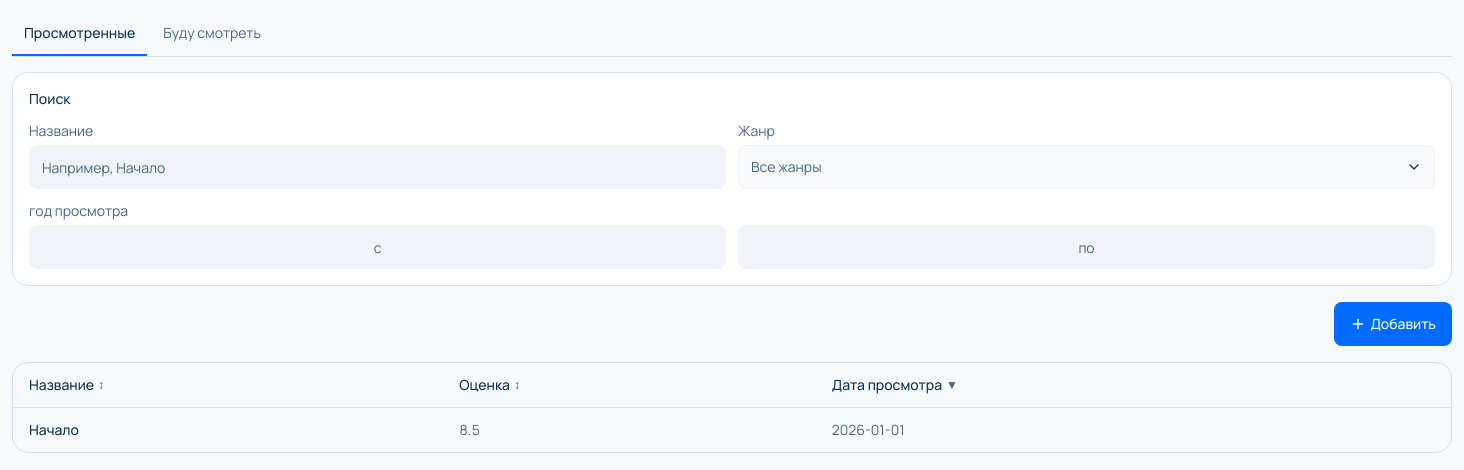
Scenario: MyFilmsView watch-later tab › lists watch-later titles with Название, Год, and added date
The image size is (1464, 470).
Click the tab "Буду смотреть" at (212, 34), box [151,12,273,56]
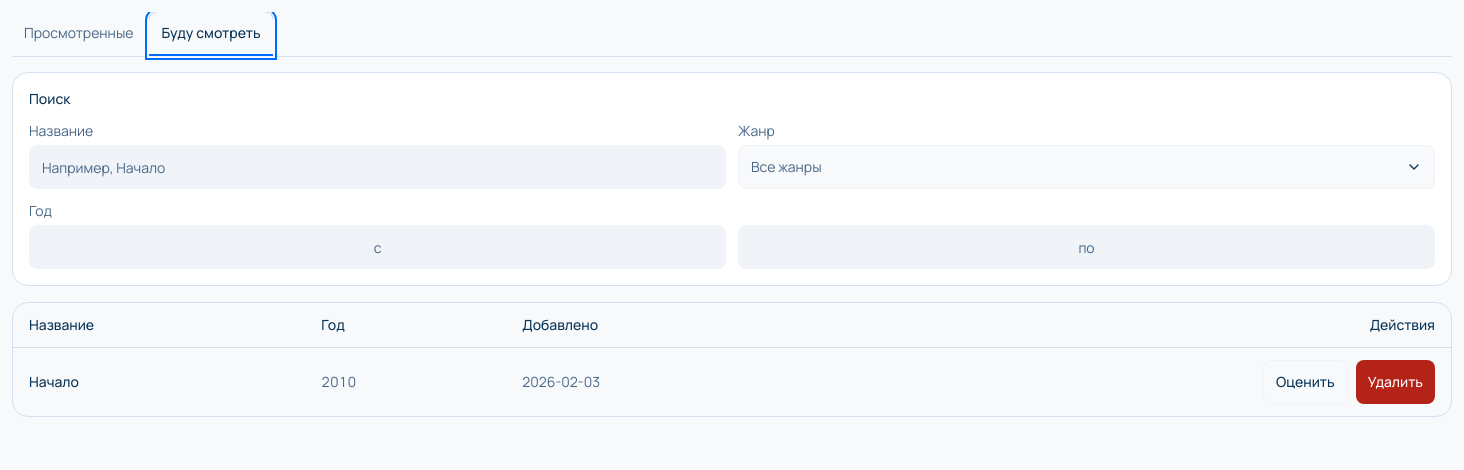
Result: the column heading "Год" is shown at [305,303,506,348]
Result: the column heading "Добавлено" is shown at [506,303,837,348]
Result: the text "2010" is shown at [305,348,506,416]
